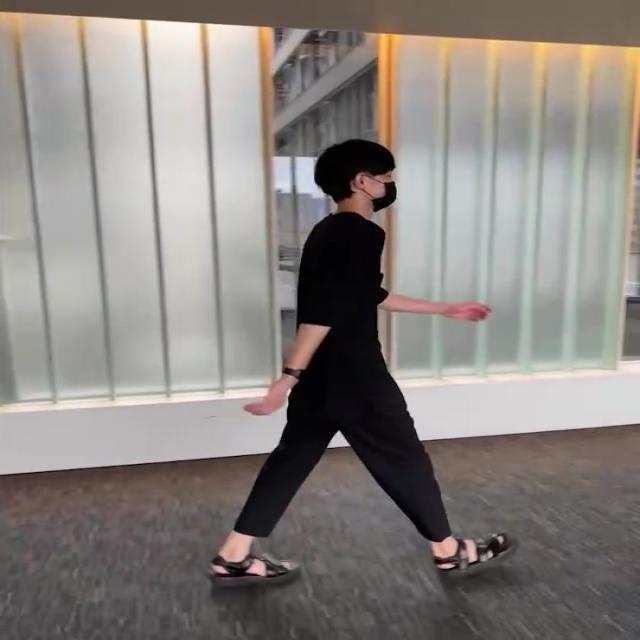direk: (203, 132, 525, 592)
